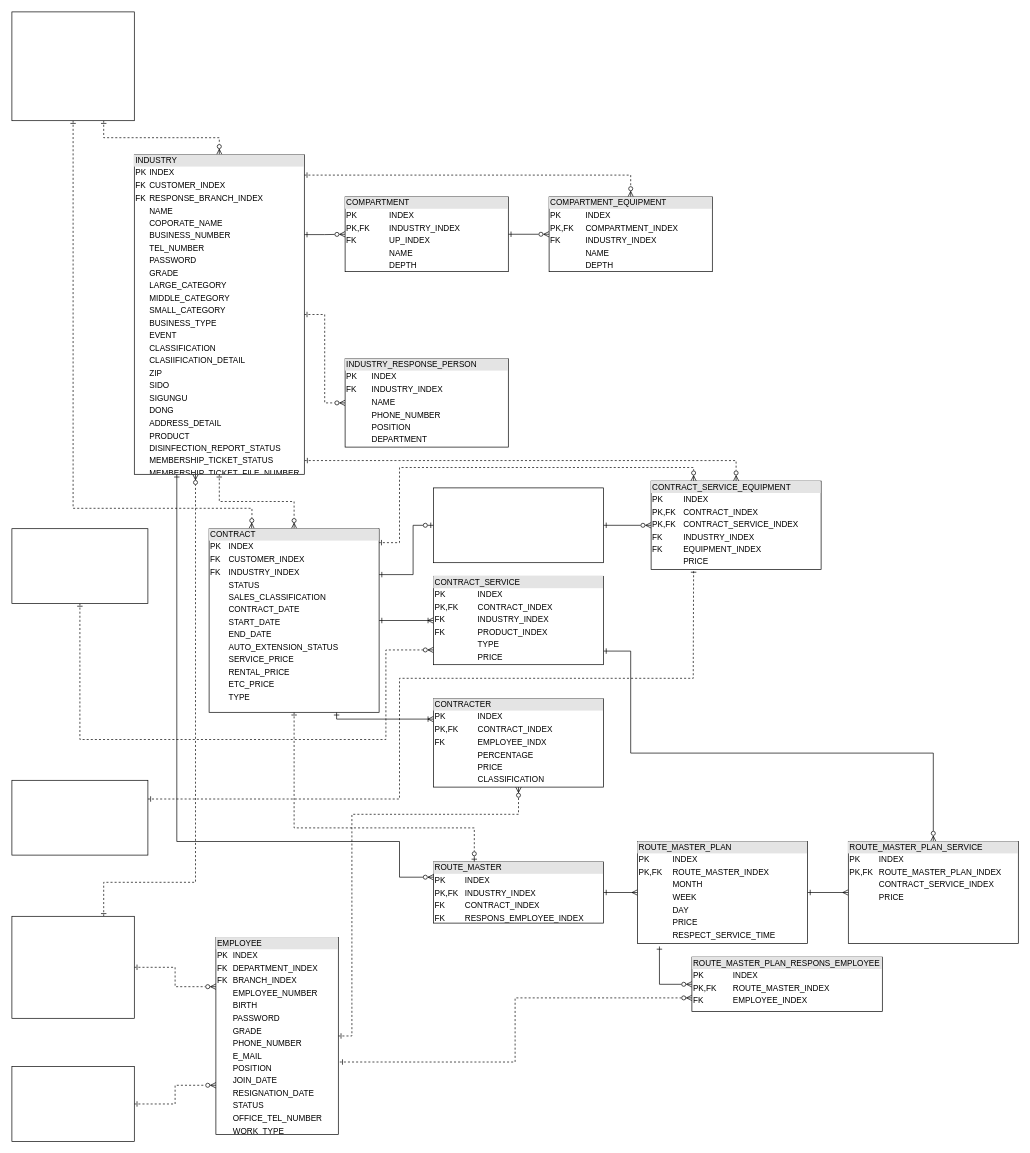
This 1030x1153 diagram has some shape labels left out. The box of each missing label's shape, as (x1, y1, x2, y2) in pixels:
BRANCH PK INDEX NAME ZIP SIDO SIGUNGU DONG ADDRESS_DETAIL: (11, 916, 134, 1018)
CONTRACT_EQUIPMENT PK INDEX PK,FK CONTRACT_INDEX FK INDUSTRY_INDEX TYPE PRICE: (433, 487, 604, 563)
CUSTOMER PK INDEX NAME BIRTH ID PASSWORD GRADE PHONE_NUMBER E_MAIL: (11, 11, 134, 121)
DEPARTMENT PK INDEX FK UP_INDEX NAME TEL_NUMBER CLASSIFICATION: (11, 1066, 134, 1141)
EQUIPMENT PK INDEX NAME PRICE TYPE STATUS: (11, 780, 148, 855)
PRODUCT PK INDEX NAME PRICE TYPE STATUS: (11, 528, 148, 604)
